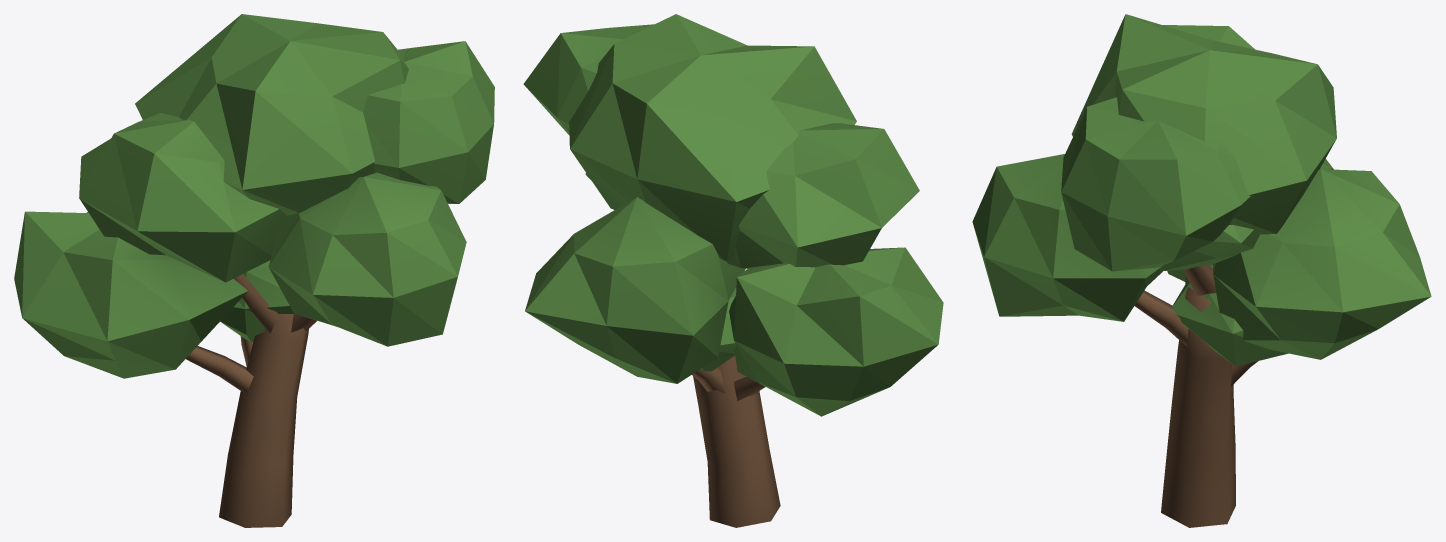
File: oak_0.glb
The picture shows the model from 3 angles, left to right: view 1: azimuth 30°, elevation 25°; view 2: azimuth 150°, elevation 25°; view 3: azimuth 270°, elevation 25°; orthographic projection. The views are drawn at different scales.
Visible parts, largest first — view 1: oak_0; view 2: oak_0; view 3: oak_0.
Part boxes in pixels (x1,y1,x2,y2): oak_0: [14, 14, 494, 527]; oak_0: [523, 14, 943, 527]; oak_0: [972, 14, 1431, 527].
Bounding box in the file's own units: 5.76 × 5.7 × 4.91.
